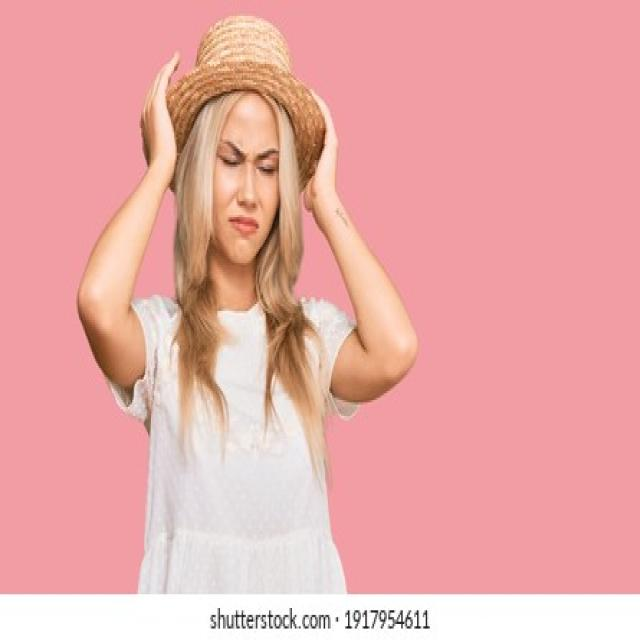hat: (148, 16, 325, 267)
